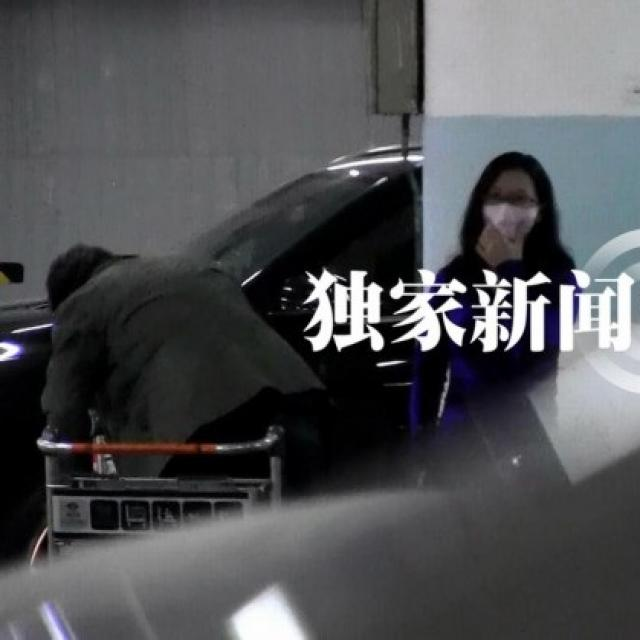mask: (479, 170, 535, 242)
